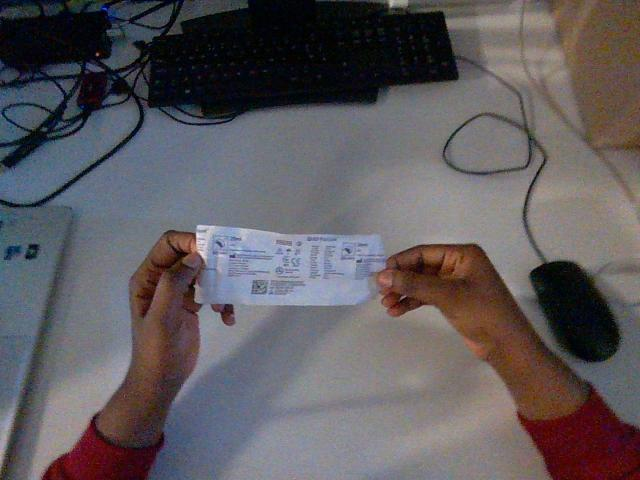syringe: (196, 227, 384, 304)
